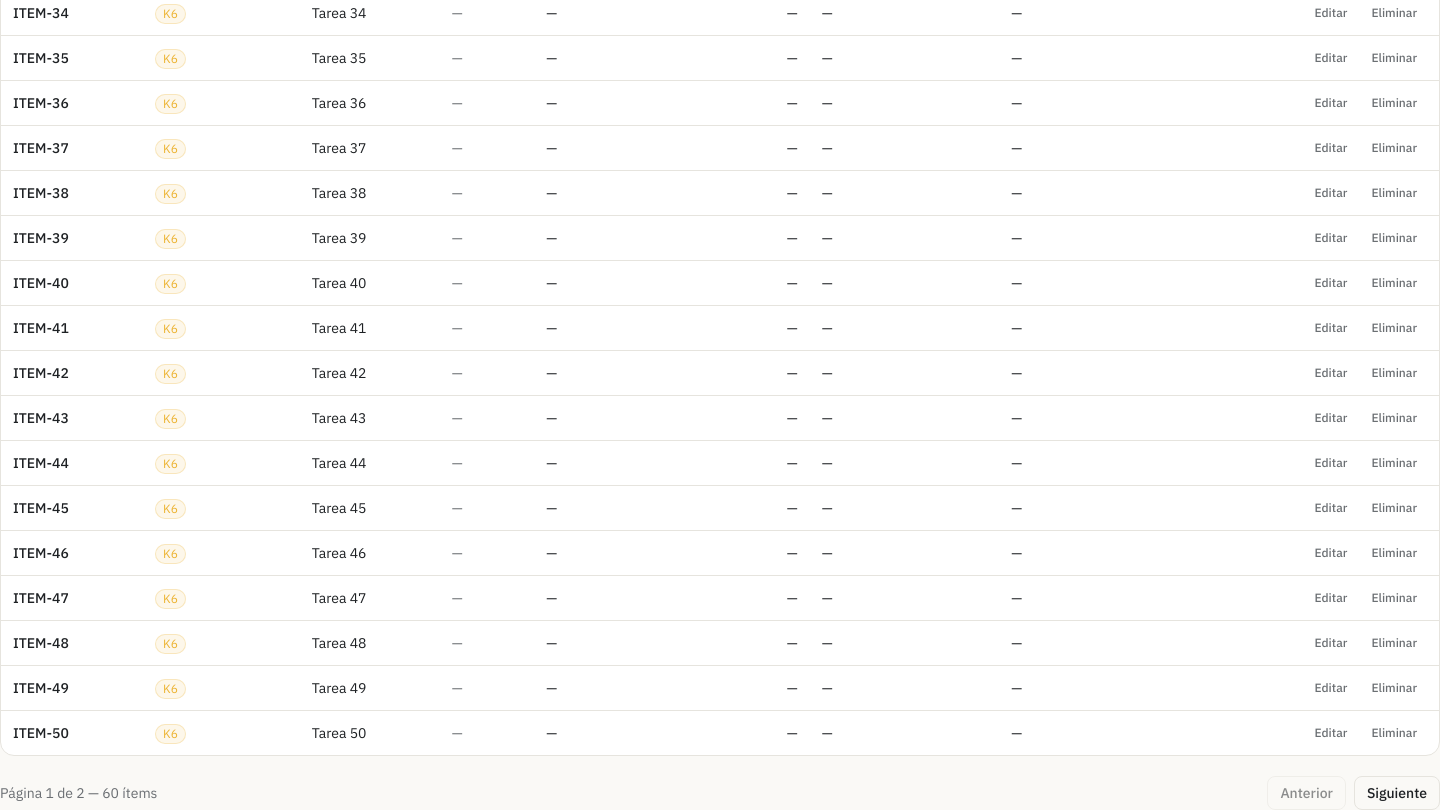
Test: ItemsCertPage › pagina la tabla a 50 por página: 60 ítems muestran 2 páginas
This screenshot has width=1440, height=810.
(page scrolled)
Check: the text "Página 1 de 2 — 60 ítems" is shown, box [0,783,157,803]
Check: the text "ITEM-51" is not shown
Step 1. Click the button "Siguiente" → (1397, 793), box [1354,776,1439,809]
(page scrolled)
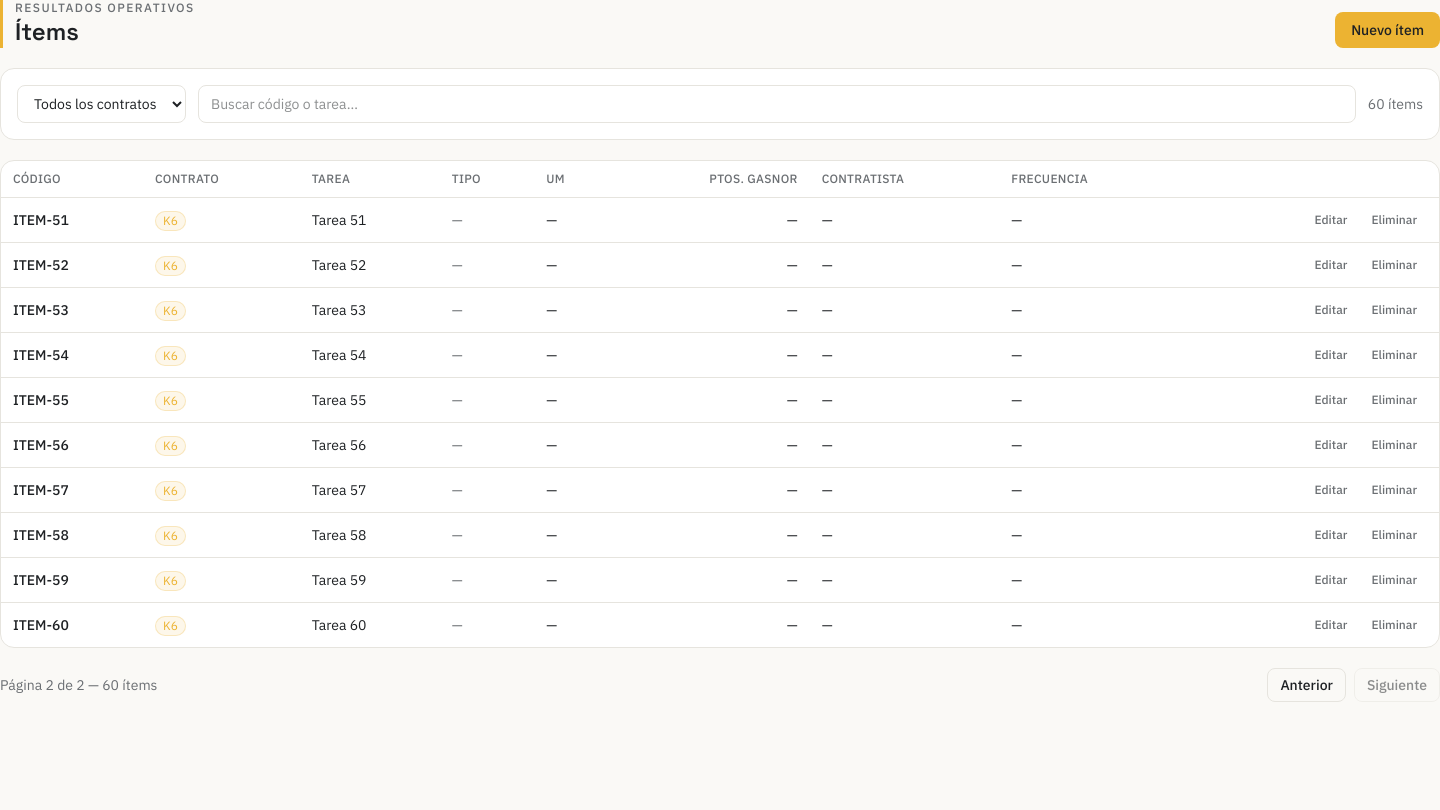
Check: the number of rows is 11
Check: the text "Página 2 de 2 — 60 ítems" is shown, box [0,675,157,695]
Check: the text "ITEM-60" is shown, box [1,602,143,647]
